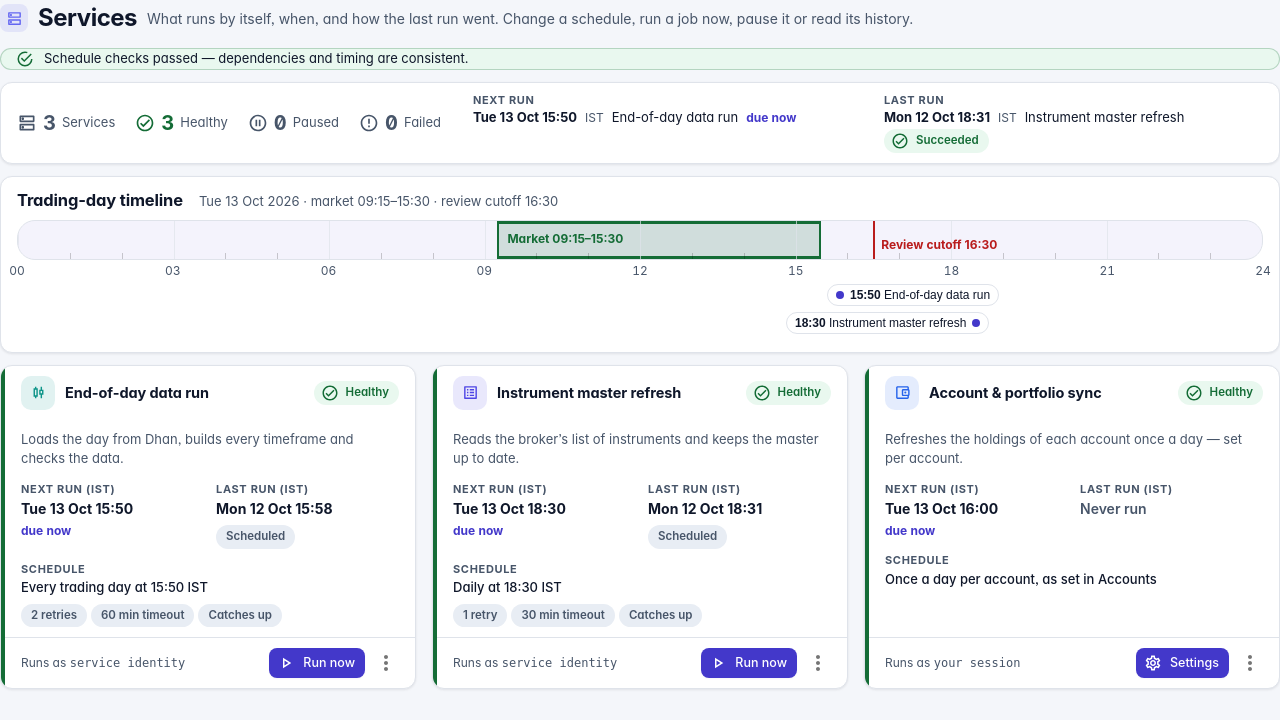
Services: the History drawer › says the runs could not be loaded and loads them on Retry
The width and height of the screenshot is (1280, 720).
Click the button named "Actions for End-of-day data run". click: point(386, 663)
box: [369,646,403,680]
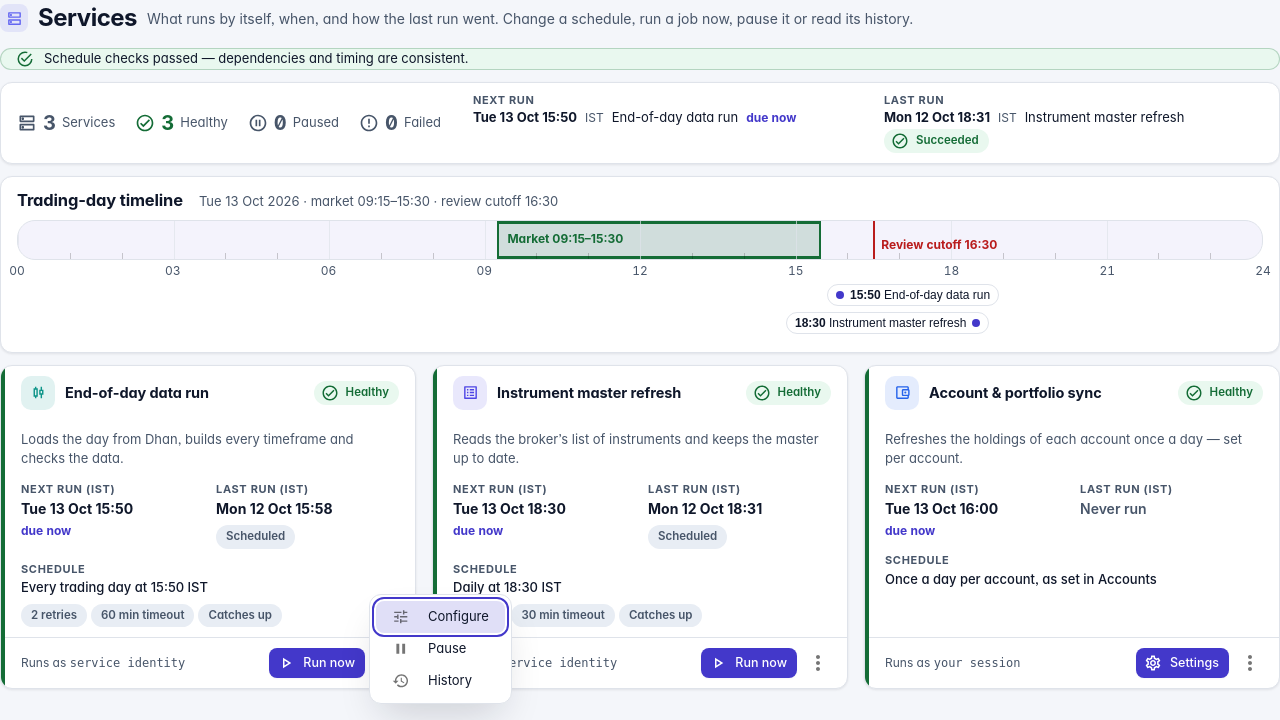
Click the menu item "History". click: point(432, 681)
box: [392,672,472,690]
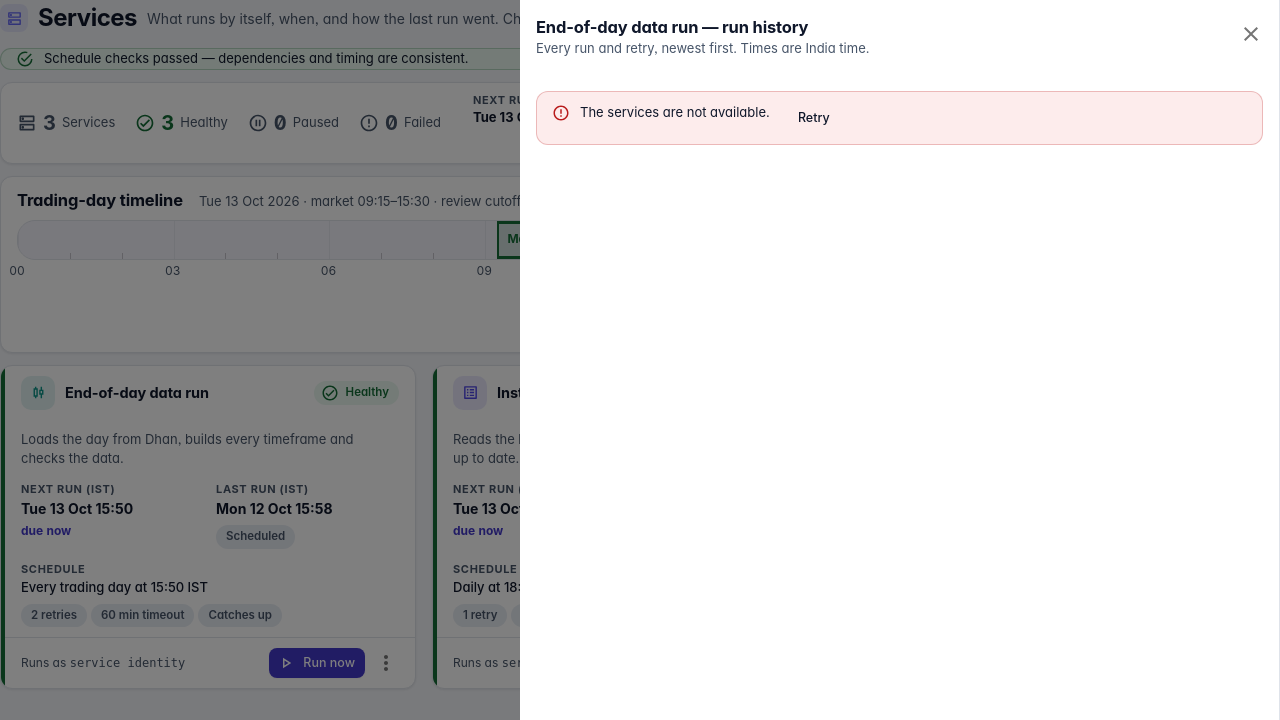
Check: the text "The services are not available." is shown, box [580,103,770,122]
Click the button "Retry". click: point(814, 118)
box: [782,103,846,133]
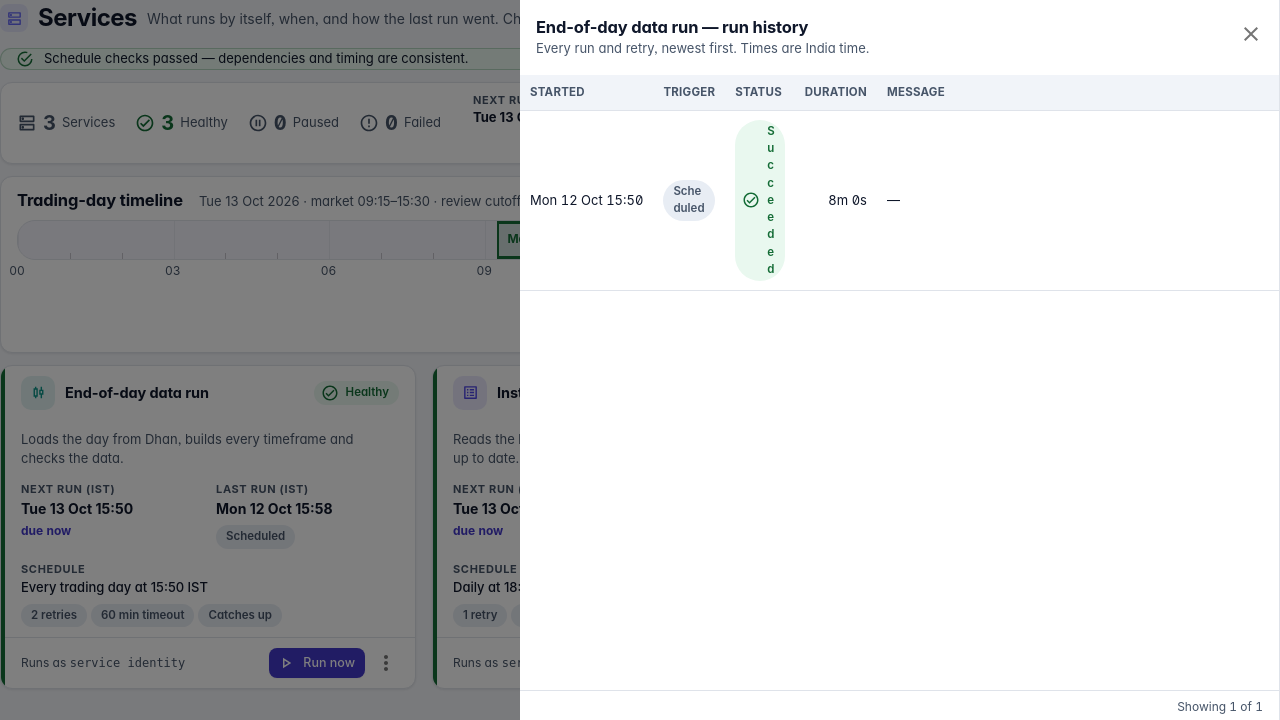
Check: the table named "Runs" is shown, box [520,75,1279,291]
Check: the text "Succeeded" is shown, box [767,124,775,276]
